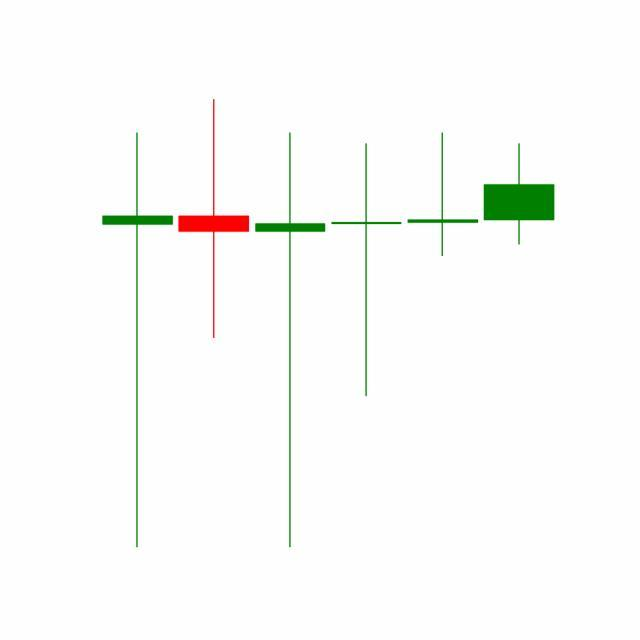Spinning Top: (404, 131, 482, 258)
